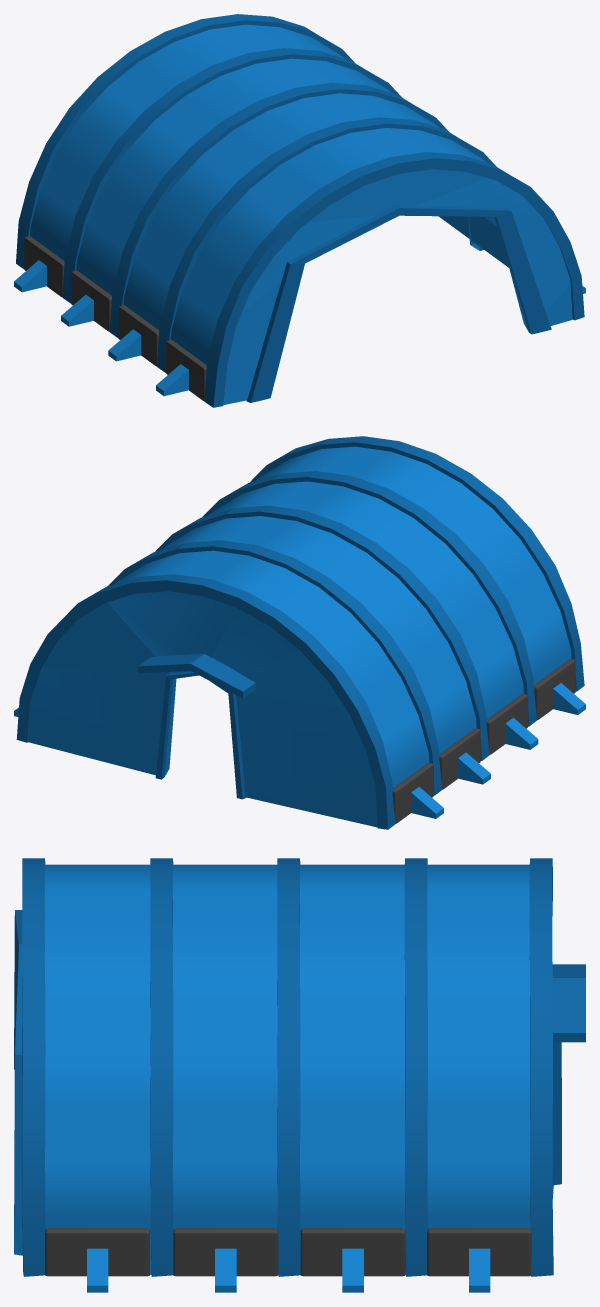
The picture shows the model from 3 angles, top to bottom: view 1: azimuth 30°, elevation 25°; view 2: azimuth 150°, elevation 25°; view 3: azimuth 270°, elevation 25°; orthographic projection. The views are drawn at different scales.
Parts seen in each view (by area): view 1: Base_1; view 2: Base_1; view 3: Base_1.
Boxes of the visible parts, x1=… form: Base_1: x1=14, y1=14, x2=585, y2=407; Base_1: x1=14, y1=436, x2=585, y2=829; Base_1: x1=14, y1=858, x2=585, y2=1292.
Size of the model in its own units: 318 by 146 by 278.
1 material, 1 textured.
